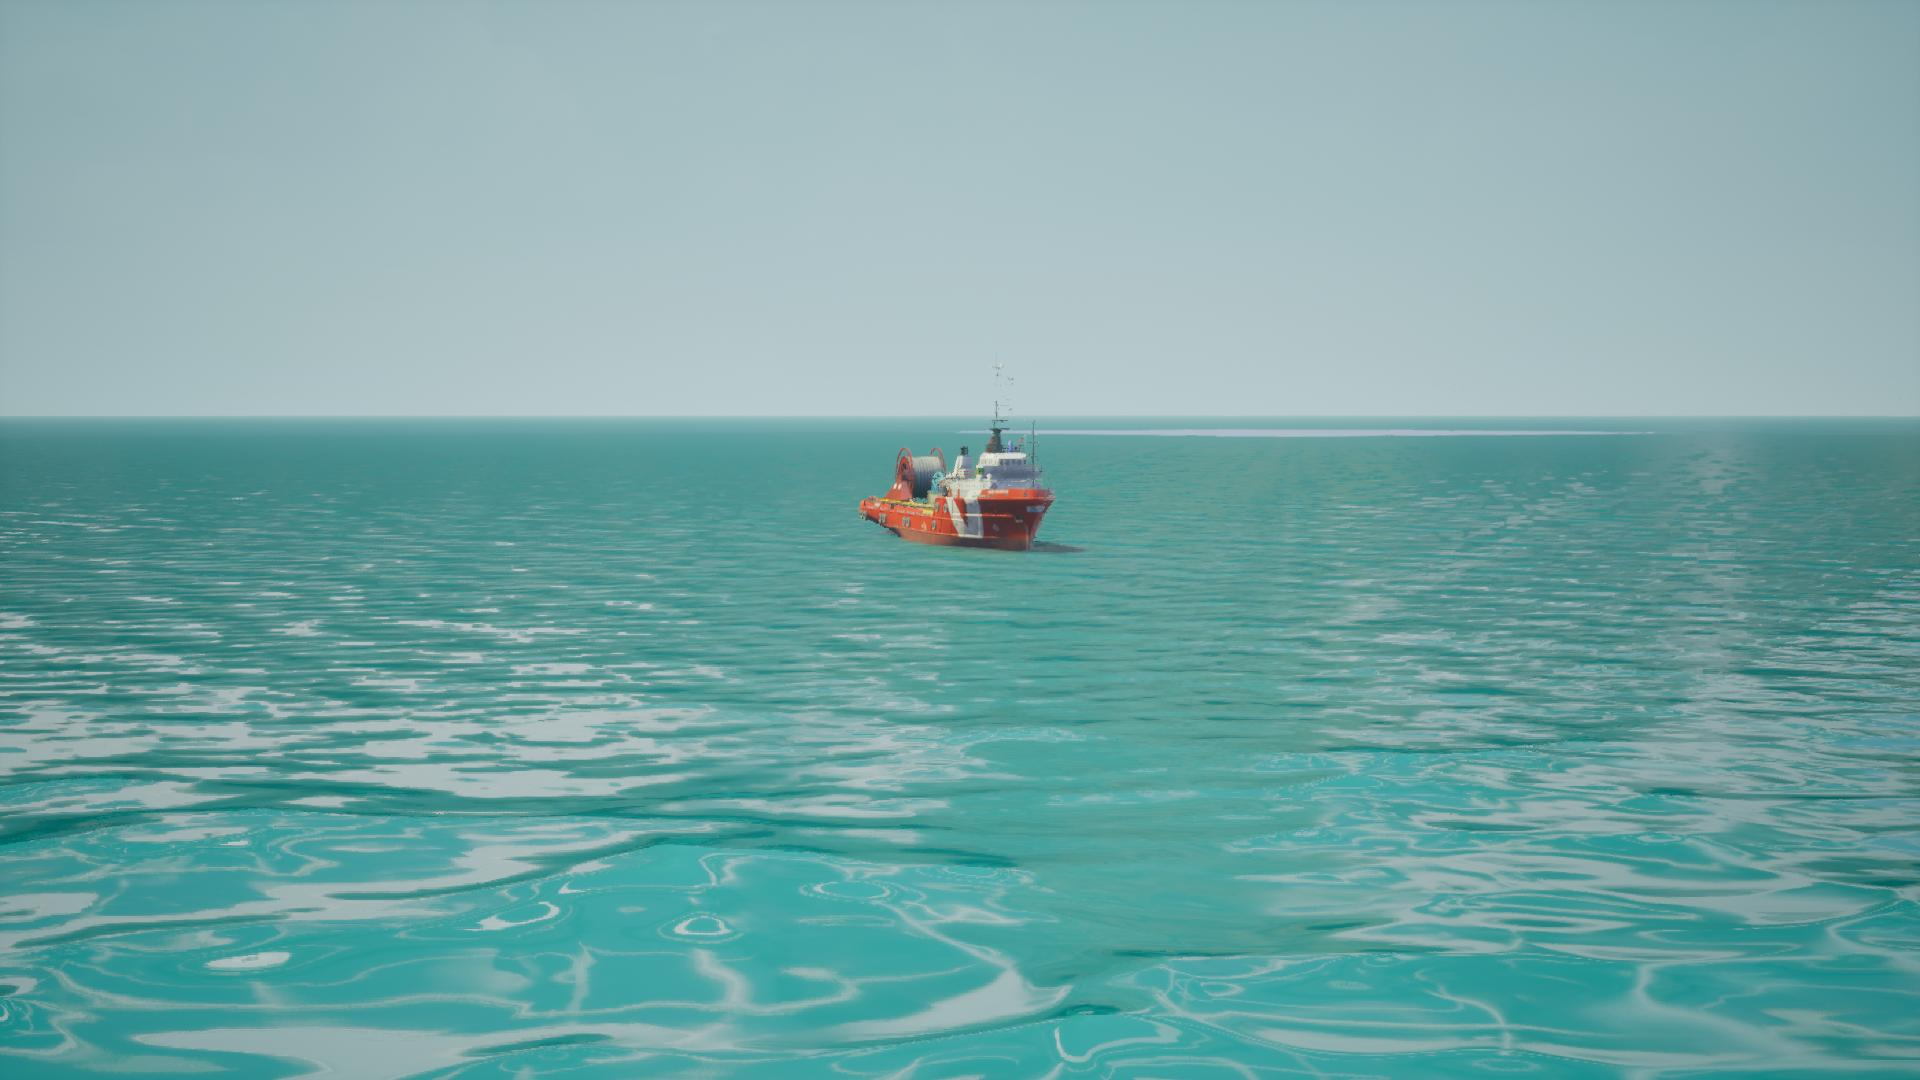Tug Boat: (858, 353, 1054, 556)
